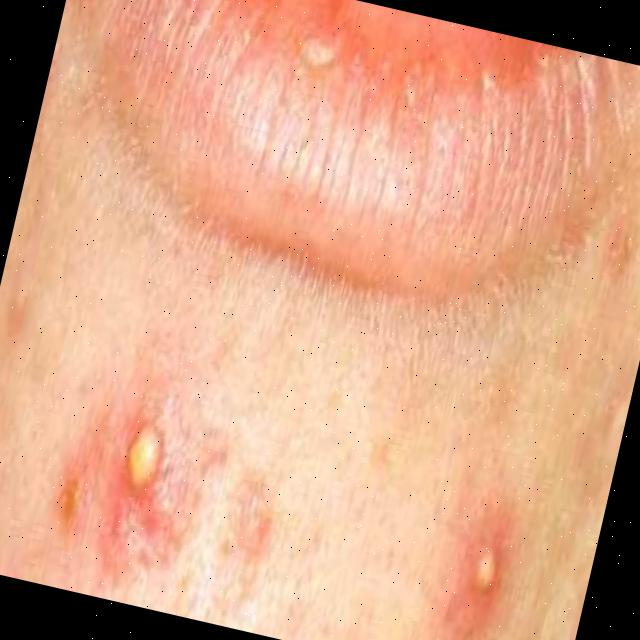kan emici bocekler: (102, 382, 196, 518), (449, 506, 527, 623)
